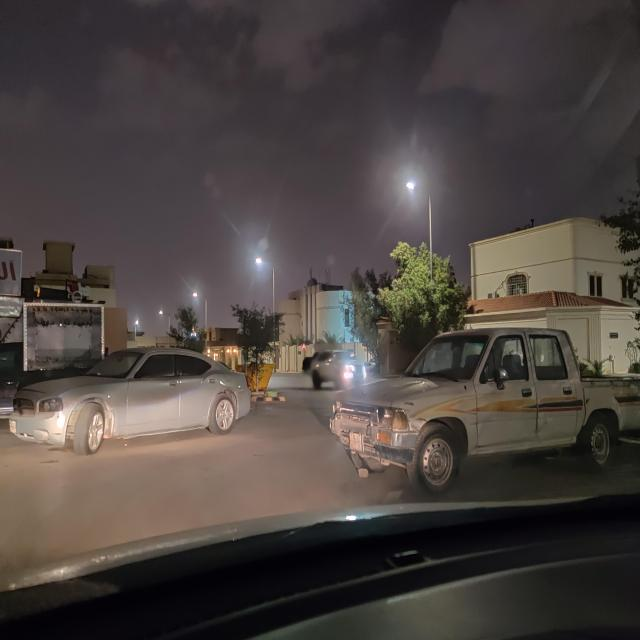license_plate: (348, 431, 364, 453), (8, 419, 18, 434)
